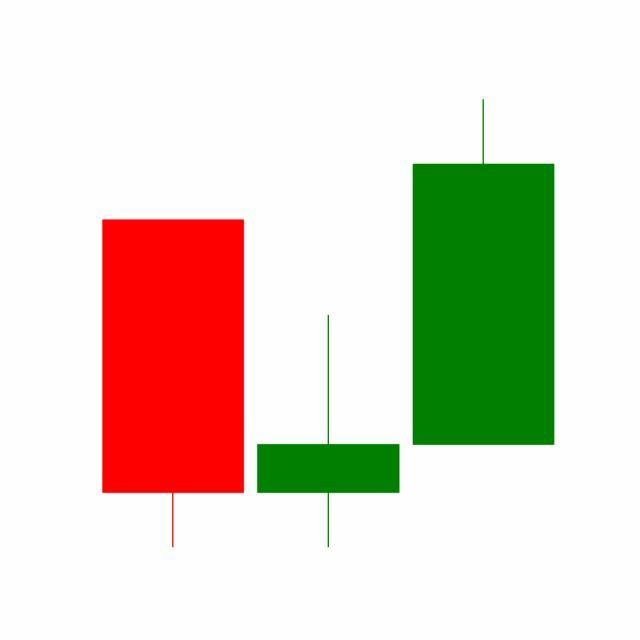Spinning Top: (250, 314, 407, 552)
